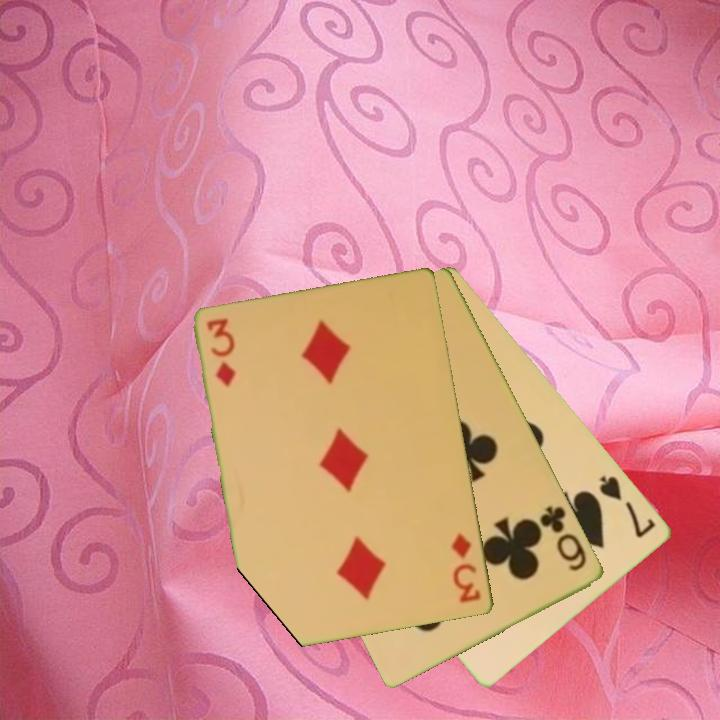3d: (448, 530, 484, 607), (203, 315, 239, 391)
6c: (536, 502, 590, 575)
7s: (596, 472, 659, 541)
